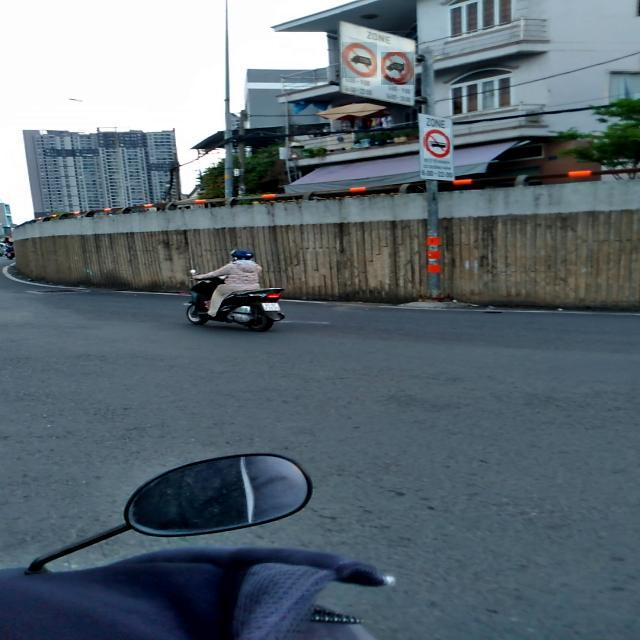P-106b: (342, 42, 377, 78), (381, 52, 414, 85)
P-107a: (424, 129, 450, 159)
